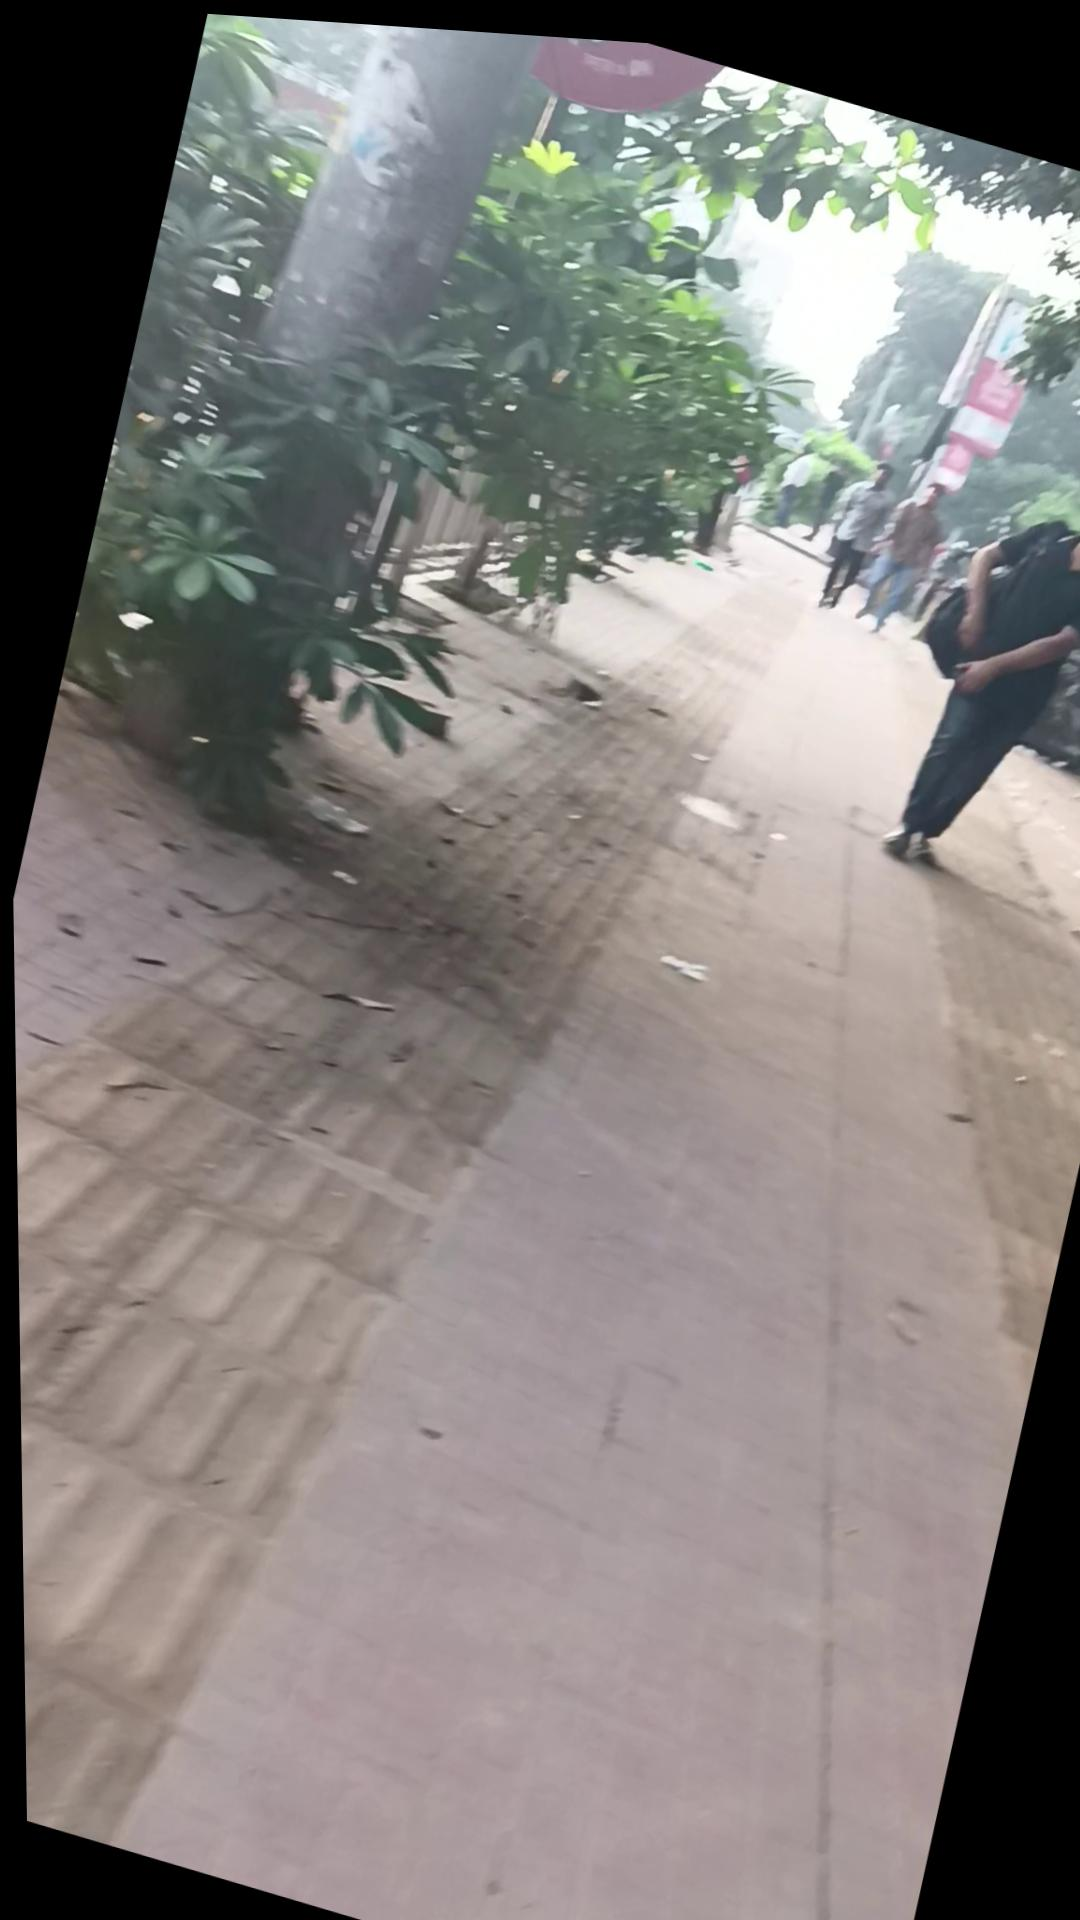Muddy road: (869, 429, 1080, 894), (847, 452, 955, 636), (808, 435, 905, 611), (767, 425, 818, 522), (799, 442, 848, 535)
Potted-plant: (4, 302, 1080, 1920)
